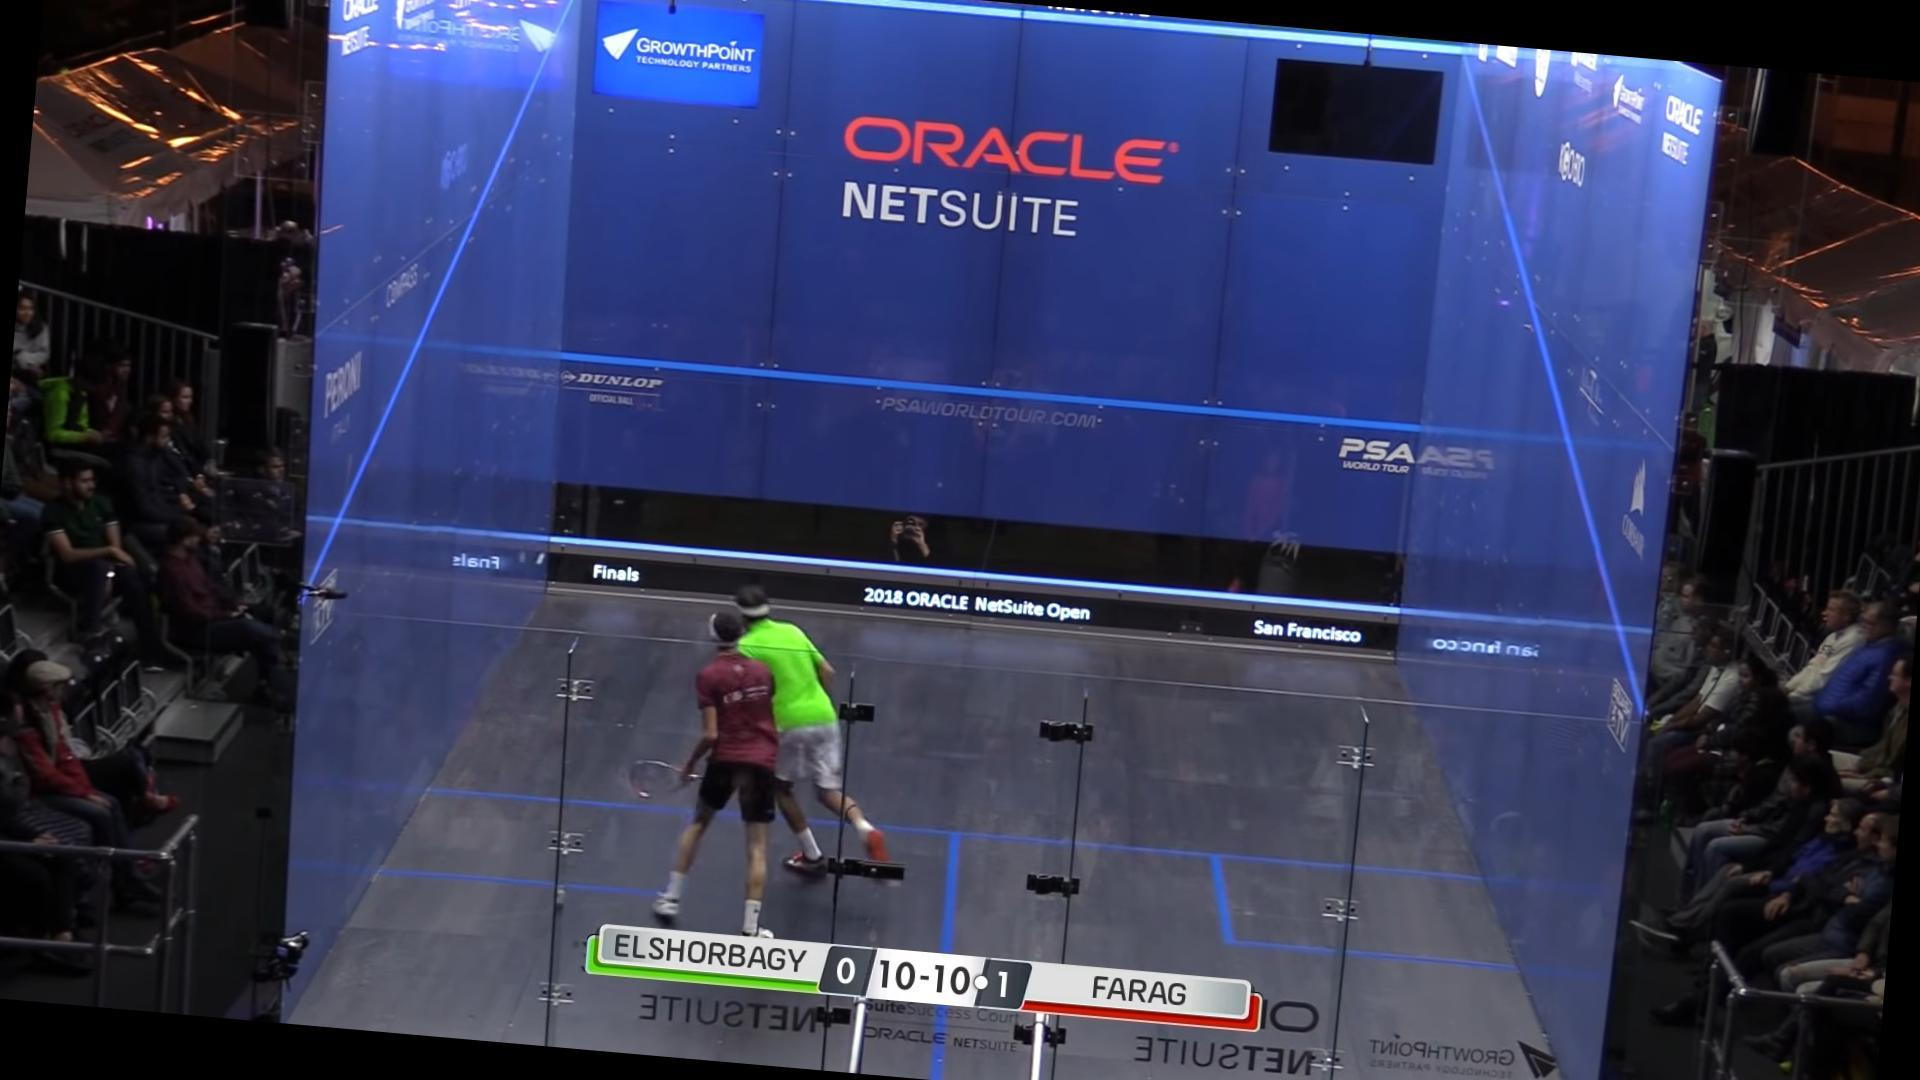Squash-Ball: (531, 549, 550, 568)
